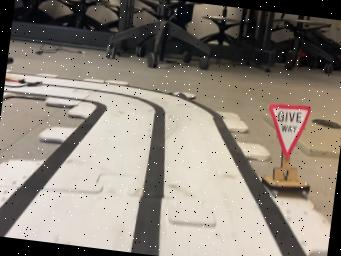give_way: (261, 103, 310, 198), (261, 103, 310, 198), (261, 103, 310, 198)
street: (0, 76, 307, 256), (0, 76, 307, 256), (0, 76, 307, 256)
